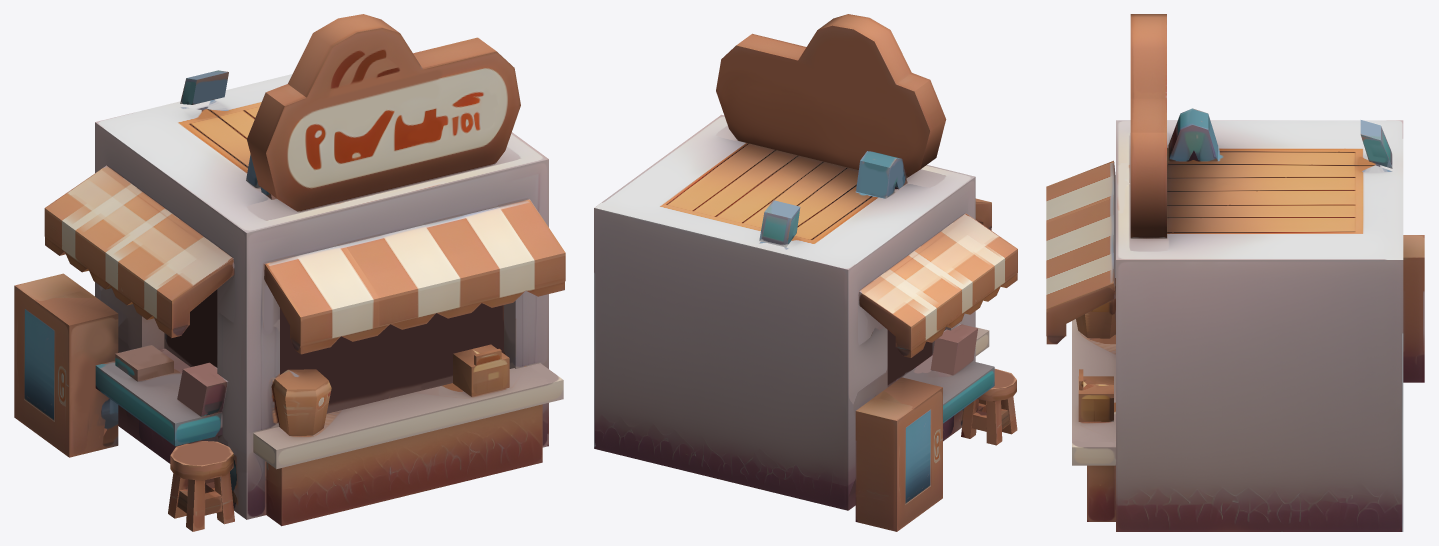
File: Model_building_kafei.fbx
The picture shows the model from 3 angles, left to right: view 1: azimuth 30°, elevation 25°; view 2: azimuth 150°, elevation 25°; view 3: azimuth 270°, elevation 25°; orthographic projection. The views are drawn at different scales.
Visible parts, largest first — view 1: 咖啡店; view 2: 咖啡店; view 3: 咖啡店.
Part boxes in pixels (left/top/right/bottom): 咖啡店: left=14, top=14, right=565, bottom=531; 咖啡店: left=594, top=14, right=1017, bottom=531; 咖啡店: left=1046, top=14, right=1424, bottom=531.
Bounding box in the file's own units: 5.3 × 6.18 × 4.92.
